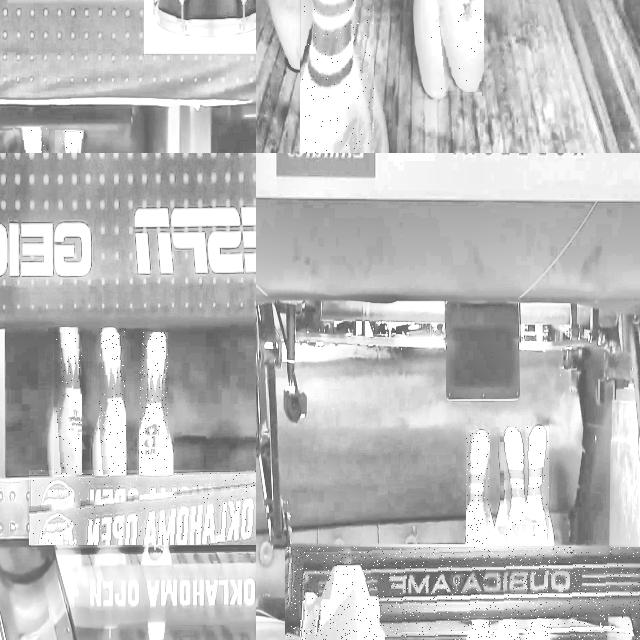bowling-pins: (302, 0, 374, 153), (431, 0, 484, 93), (99, 328, 126, 473), (140, 332, 167, 471), (56, 327, 81, 475), (268, 0, 320, 69), (524, 427, 548, 543), (466, 430, 490, 545), (503, 428, 524, 543)
sweep board: (287, 547, 640, 640), (29, 484, 256, 545)
